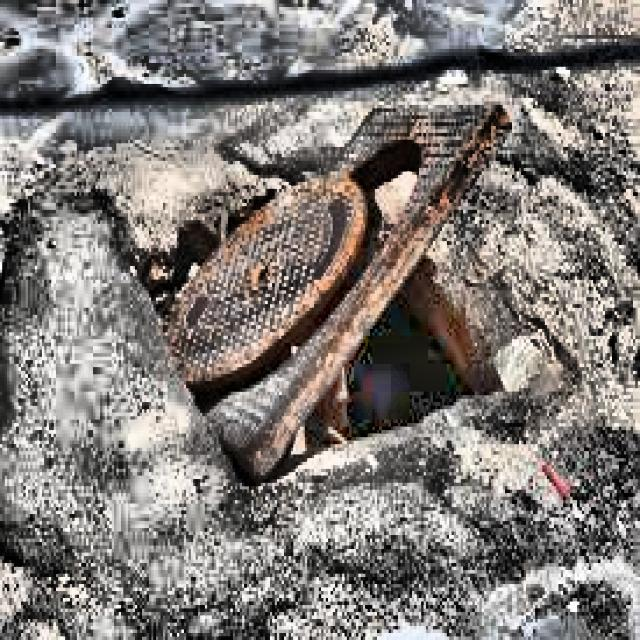open_manhole: (144, 93, 504, 456)
